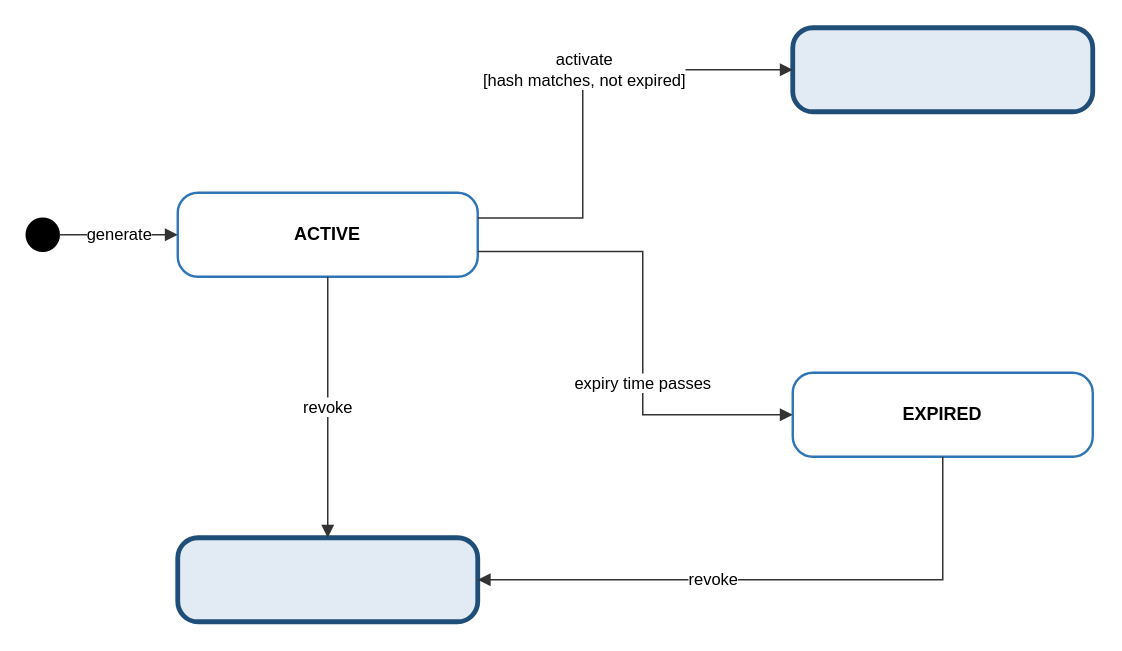
Image size: 1122x651. Some labels were removed from this diagram. Here are the shapes that lost their labels. From the top down, the box of each, then its label:
(790, 25, 1094, 113): REDEEMED
(175, 535, 479, 623): REVOKED
